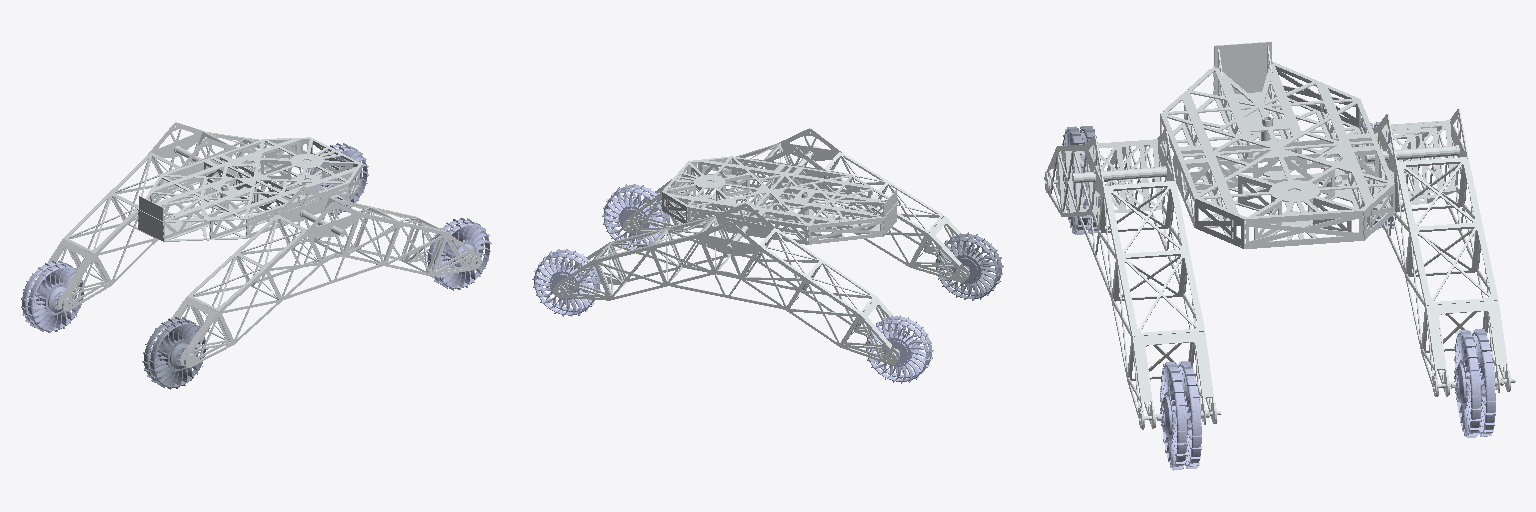
The robot description file, URDF, robot "rover_drive_train.urdf":
<robot
  name="rover_drive_train.urdf">
  <link
    name="base_link">
    <inertial>
      <origin
        xyz="-0.0482126606920046 -0.754728735469034 -0.0144346759921354"
        rpy="0 0 0" />
      <mass
        value="5.75727481463369" />
      <inertia
        ixx="0.148157813642014"
        ixy="-0.00136941235470607"
        ixz="-0.0166120287651177"
        iyy="0.211443649946076"
        iyz="-1.16294222168376E-05"
        izz="0.0733344346218237" />
    </inertial>
    <visual>
      <origin
        xyz="0 0 0"
        rpy="0 0 0" />
      <geometry>
        <mesh
          filename="package://rover_drive_train.urdf/meshes/base_link.STL" />
      </geometry>
      <material
        name="">
        <color
          rgba="0.898039215686275 0.917647058823529 0.929411764705882 1" />
      </material>
    </visual>
    <collision>
      <origin
        xyz="0 0 0"
        rpy="0 0 0" />
      <geometry>
        <mesh
          filename="package://rover_drive_train.urdf/meshes/base_link.STL" />
      </geometry>
    </collision>
  </link>
  <link
    name="right_rocker">
    <inertial>
      <origin
        xyz="-0.000557888554961139 0.0316146597748911 -0.233918441683012"
        rpy="0 0 0" />
      <mass
        value="3.53538870837828" />
      <inertia
        ixx="0.454346566560901"
        ixy="9.91317080171849E-05"
        ixz="-0.000423790715614464"
        iyy="0.115664268294054"
        iyz="0.159976237751864"
        izz="0.37146039403717" />
    </inertial>
    <visual>
      <origin
        xyz="0 0 0"
        rpy="0 0 0" />
      <geometry>
        <mesh
          filename="package://rover_drive_train.urdf/meshes/right_rocker.STL" />
      </geometry>
      <material
        name="">
        <color
          rgba="0.898039215686275 0.917647058823529 0.929411764705882 1" />
      </material>
    </visual>
    <collision>
      <origin
        xyz="0 0 0"
        rpy="0 0 0" />
      <geometry>
        <mesh
          filename="package://rover_drive_train.urdf/meshes/right_rocker.STL" />
      </geometry>
    </collision>
  </link>
  <joint
    name="right_rocker_joint"
    type="fixed">
    <origin
      xyz="0.17386 -0.32588 -0.72921"
      rpy="0.45433 4.8942E-13 1.7402" />
    <parent
      link="base_link" />
    <child
      link="right_rocker" />
    <axis
      xyz="0 0 0" />
  </joint>
  <link
    name="front_right_wheel">
    <inertial>
      <origin
        xyz="-0.0638523781360152 -0.00638436960214012 0.0387148654977496"
        rpy="0 0 0" />
      <mass
        value="1.1794922418287" />
      <inertia
        ixx="0.000196767909467314"
        ixy="-1.31729287105525E-09"
        ixz="7.37127034216266E-16"
        iyy="2.22593935333306E-14"
        iyz="-5.87586275593444E-10"
        izz="0.000196767909467357" />
    </inertial>
    <visual>
      <origin
        xyz="0 0 0"
        rpy="0 0 0" />
      <geometry>
        <mesh
          filename="package://rover_drive_train.urdf/meshes/front_right_wheel.STL" />
      </geometry>
      <material
        name="">
        <color
          rgba="0.792156862745098 0.819607843137255 0.933333333333333 1" />
      </material>
    </visual>
    <collision>
      <origin
        xyz="0 0 0"
        rpy="1.57075 0 0" />
      <geometry>
        <cylinder length="0.025" radius="0.14" />
      </geometry>
    </collision>
  </link>
  <joint
    name="front_right_wheel_joint"
    type="continuous">
    <origin
      xyz="-0.00088417 -0.73374 -0.043429"
      rpy="-3.1416 -0.055664 -1.5708" />
    <parent
      link="right_rocker" />
    <child
      link="front_right_wheel" />
    <axis
      xyz="0 0 0" />
  </joint>
  <link
    name="back_right_wheel">
    <inertial>
      <origin
        xyz="9.91515528570019E-08 -0.0472154111177524 -1.22631083065983E-08"
        rpy="0 0 0" />
      <mass
        value="1.1794922425231" />
      <inertia
        ixx="0.000196767909533167"
        ixy="3.75064062652681E-10"
        ixz="-1.70933260459168E-16"
        iyy="2.22607423534762E-14"
        iyz="1.39277517109158E-09"
        izz="0.000196767909534602" />
    </inertial>
    <visual>
      <origin
        xyz="0 0 0"
        rpy="0 0 0" />
      <geometry>
        <mesh
          filename="package://rover_drive_train.urdf/meshes/back_right_wheel.STL" />
      </geometry>
      <material
        name="">
        <color
          rgba="0.666666666666667 0.698039215686274 0.768627450980392 1" />
      </material>
    </visual>
    <collision>
      <origin
        xyz="0 0 0"
        rpy="1.57075 0 0" />
      <geometry>
        <cylinder length="0.025" radius="0.14" />
      </geometry>
    </collision>
  </link>
  <joint
    name="back_right_wheel_joint"
    type="continuous">
    <origin
      xyz="-0.051744 0.58689 -0.691"
      rpy="-2.1651E-15 0.73246 1.5708" />
    <parent
      link="right_rocker" />
    <child
      link="back_right_wheel" />
    <axis
      xyz="0 0 0" />
  </joint>
  <link
    name="left_rocker">
    <inertial>
      <origin
        xyz="-0.000557888554970853 0.252954601809629 0.148282341683018"
        rpy="0 0 0" />
      <mass
        value="3.53538870837836" />
      <inertia
        ixx="0.4543465665609"
        ixy="-0.000392911245744934"
        ixz="0.000187206888607617"
        iyy="0.115664268294048"
        iyz="-0.159976237751859"
        izz="0.371460394037177" />
    </inertial>
    <visual>
      <origin
        xyz="0 0 0"
        rpy="0 0 0" />
      <geometry>
        <mesh
          filename="package://rover_drive_train.urdf/meshes/left_rocker.STL" />
      </geometry>
      <material
        name="">
        <color
          rgba="0.898039215686275 0.917647058823529 0.929411764705882 1" />
      </material>
    </visual>
    <collision>
      <origin
        xyz="0 0 0"
        rpy="0 0 0" />
      <geometry>
        <mesh
          filename="package://rover_drive_train.urdf/meshes/left_rocker.STL" />
      </geometry>
    </collision>
  </link>
  <joint
    name="left_rocker_joint"
    type="fixed">
    <origin
      xyz="-0.360150051828305 0.336704046854873 -0.915642478858881"
      rpy="2.6444081811617 4.88947062770704E-13 1.74019593574699" />
    <parent
      link="base_link" />
    <child
      link="left_rocker" />
    <axis
      xyz="0 0 0" />
  </joint>
  <link
    name="back_left_wheel">
    <inertial>
      <origin
        xyz="-0.0638523828785051 -0.0109359900954141 0.0387148623298141"
        rpy="0 0 0" />
      <mass
        value="1.17949224237241" />
      <inertia
        ixx="0.000196767909519715"
        ixy="-1.04888867470172E-09"
        ixz="5.04499917285595E-16"
        iyy="2.22604017500975E-14"
        iyz="-9.90118236109835E-10"
        izz="0.000196767909518639" />
    </inertial>
    <visual>
      <origin
        xyz="0 0 0"
        rpy="0 0 0" />
      <geometry>
        <mesh
          filename="package://rover_drive_train.urdf/meshes/back_left_wheel.STL" />
      </geometry>
      <material
        name="">
        <color
          rgba="0.792156862745098 0.819607843137255 0.933333333333333 1" />
      </material>
    </visual>
    <collision>
      <origin
        xyz="0 0 0"
        rpy="1.57075 0 0" />
      <geometry>
        <cylinder length="0.025" radius="0.14" />
      </geometry>
    </collision>
  </link>
  <joint
    name="back_left_wheel_joint"
    type="continuous">
    <origin
      xyz="0.0064076 -0.38113 -0.026884"
      rpy="3.1416 0.91335 1.5708" />
    <parent
      link="left_rocker" />
    <child
      link="back_left_wheel" />
    <axis
      xyz="0 0 0" />
  </joint>
  <link
    name="front_left_wheel">
    <inertial>
      <origin
        xyz="-0.063852 -0.010936 0.038715"
        rpy="0 0 0" />
      <mass
        value="1.1795" />
      <inertia
        ixx="0.00019677"
        ixy="-1.0489E-09"
        ixz="5.037E-16"
        iyy="2.2259E-14"
        iyz="-9.9011E-10"
        izz="0.00019677" />
    </inertial>
    <visual>
      <origin
        xyz="0 0 0"
        rpy="0 0 0" />
      <geometry>
        <mesh
          filename="package://rover_drive_train.urdf/meshes/front_left_wheel.STL" />
      </geometry>
      <material
        name="">
        <color
          rgba="0.79216 0.81961 0.93333 1" />
      </material>
    </visual>
    <collision>
      <origin
        xyz="0 0 0"
        rpy="1.57075 0 0" />
      <geometry>
        <cylinder length="0.025" radius="0.14" />
      </geometry>
    </collision>
  </link>
  <joint
    name="front_left_wheel_joint"
    type="continuous">
    <origin
      xyz="0.016436 0.8707 0.56446"
      rpy="-3.1416 1.1247 1.5708" />
    <parent
      link="left_rocker" />
    <child
      link="front_left_wheel" />
    <axis
      xyz="0 0 0" />
  </joint>
</robot>

--- Render facts (derived) ---
The picture shows the robot from 3 angles, left to right: view 1: azimuth 30°, elevation 25°; view 2: azimuth 150°, elevation 25°; view 3: azimuth 270°, elevation 25°; orthographic projection.
Model rover_drive_train.urdf with 7 links and 6 joints (4 continuous, 2 fixed), rooted at base_link, posed all joints at 0.
Visible links, largest first — view 1: base_link, right_rocker, left_rocker, back_left_wheel, back_right_wheel, front_right_wheel, front_left_wheel; view 2: base_link, left_rocker, right_rocker, back_right_wheel, back_left_wheel, front_left_wheel, front_right_wheel; view 3: base_link, right_rocker, left_rocker, front_right_wheel, front_left_wheel, back_right_wheel.
Boxes of the visible links, x1=… form: base_link: x1=137, y1=137, x2=361, y2=241; right_rocker: x1=153, y1=186, x2=481, y2=367; left_rocker: x1=32, y1=122, x2=357, y2=311; back_left_wheel: x1=21, y1=260, x2=83, y2=332; back_right_wheel: x1=142, y1=317, x2=207, y2=389; front_right_wheel: x1=427, y1=218, x2=491, y2=290; front_left_wheel: x1=305, y1=143, x2=368, y2=215; base_link: x1=662, y1=146, x2=897, y2=250; left_rocker: x1=553, y1=203, x2=910, y2=364; right_rocker: x1=623, y1=128, x2=982, y2=282; back_right_wheel: x1=935, y1=232, x2=1003, y2=300; back_left_wheel: x1=865, y1=315, x2=933, y2=383; front_left_wheel: x1=532, y1=249, x2=600, y2=316; front_right_wheel: x1=602, y1=184, x2=670, y2=248; base_link: x1=1072, y1=42, x2=1463, y2=248; right_rocker: x1=1044, y1=131, x2=1220, y2=429; left_rocker: x1=1351, y1=109, x2=1515, y2=396; front_right_wheel: x1=1160, y1=361, x2=1201, y2=470; front_left_wheel: x1=1454, y1=329, x2=1495, y2=437; back_right_wheel: x1=1062, y1=126, x2=1101, y2=234.
Size in the robot's own frame: 1.76 by 1.18 by 0.6237 metres.
Meshes: 7 distinct files referenced, 7 mesh visuals loaded (7 binary STL).